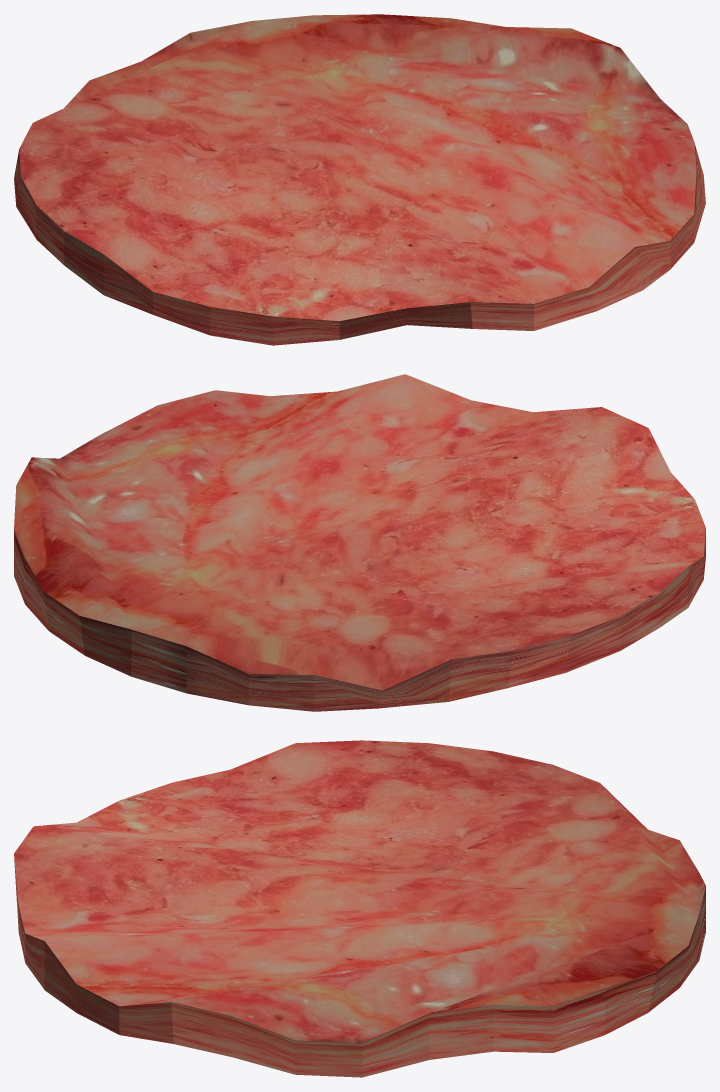
The model's file is salami_1.obj.
The picture shows the model from 3 angles, top to bottom: view 1: azimuth 30°, elevation 25°; view 2: azimuth 150°, elevation 25°; view 3: azimuth 270°, elevation 25°; orthographic projection.
Parts seen in each view (by area): view 1: Cylinder.001; view 2: Cylinder.001; view 3: Cylinder.001.
Part boxes in pixels (<box>): Cylinder.001: <box>14,14,705,345</box>; Cylinder.001: <box>14,374,705,711</box>; Cylinder.001: <box>14,740,705,1077</box>.
Bounding box in the file's own units: 0.1805 × 0.0178 × 0.1817.
Materials: 1 (1 with a texture image).
